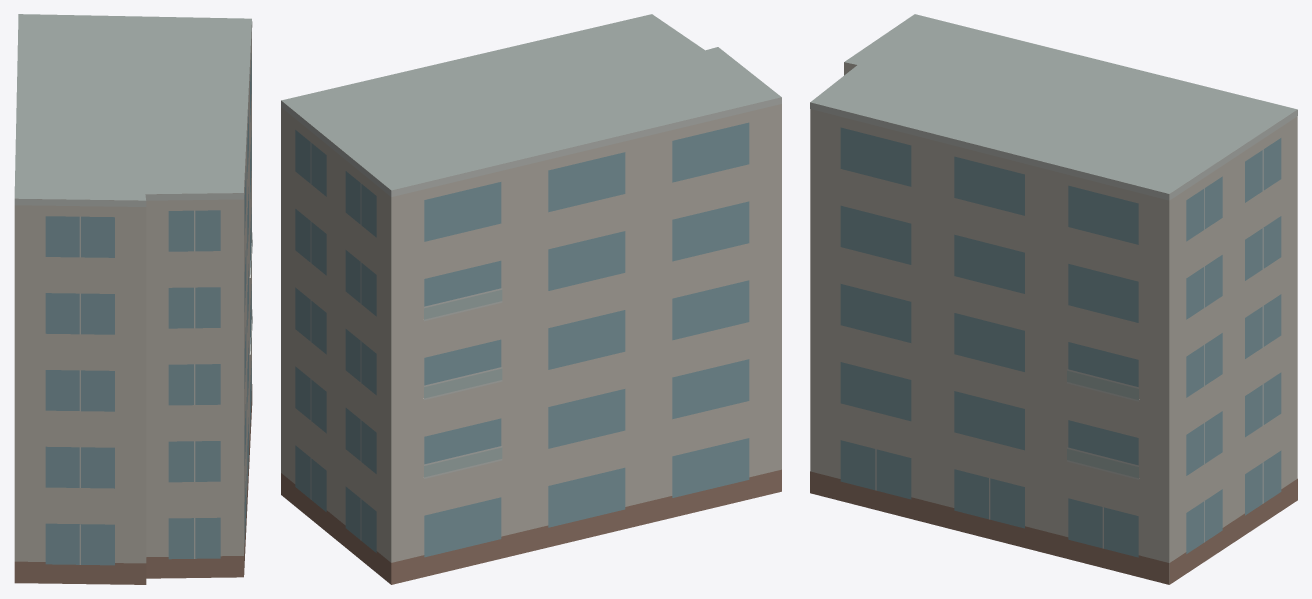
The model's file is survey-upis-32783700.glb.
The picture shows the model from 3 angles, left to right: view 1: azimuth 30°, elevation 25°; view 2: azimuth 150°, elevation 25°; view 3: azimuth 270°, elevation 25°; orthographic projection. The views are drawn at different scales.
Visible parts, largest first — view 1: survey-upis-32783700.tmp; view 2: survey-upis-32783700.tmp; view 3: survey-upis-32783700.tmp.
Boxes of the visible parts, box(x1,y1,x2,y2) form: survey-upis-32783700.tmp: box(14, 14, 252, 584); survey-upis-32783700.tmp: box(281, 14, 781, 584); survey-upis-32783700.tmp: box(810, 14, 1297, 584).
Size of the model in its own units: 14.23 by 14.4 by 16.29.
